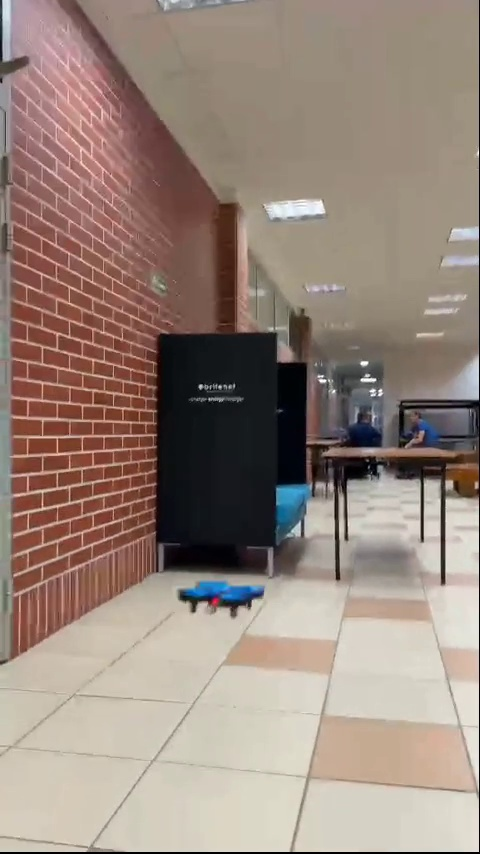drone: (179, 577, 265, 615)
no vest: (396, 405, 437, 457), (344, 405, 382, 451)
